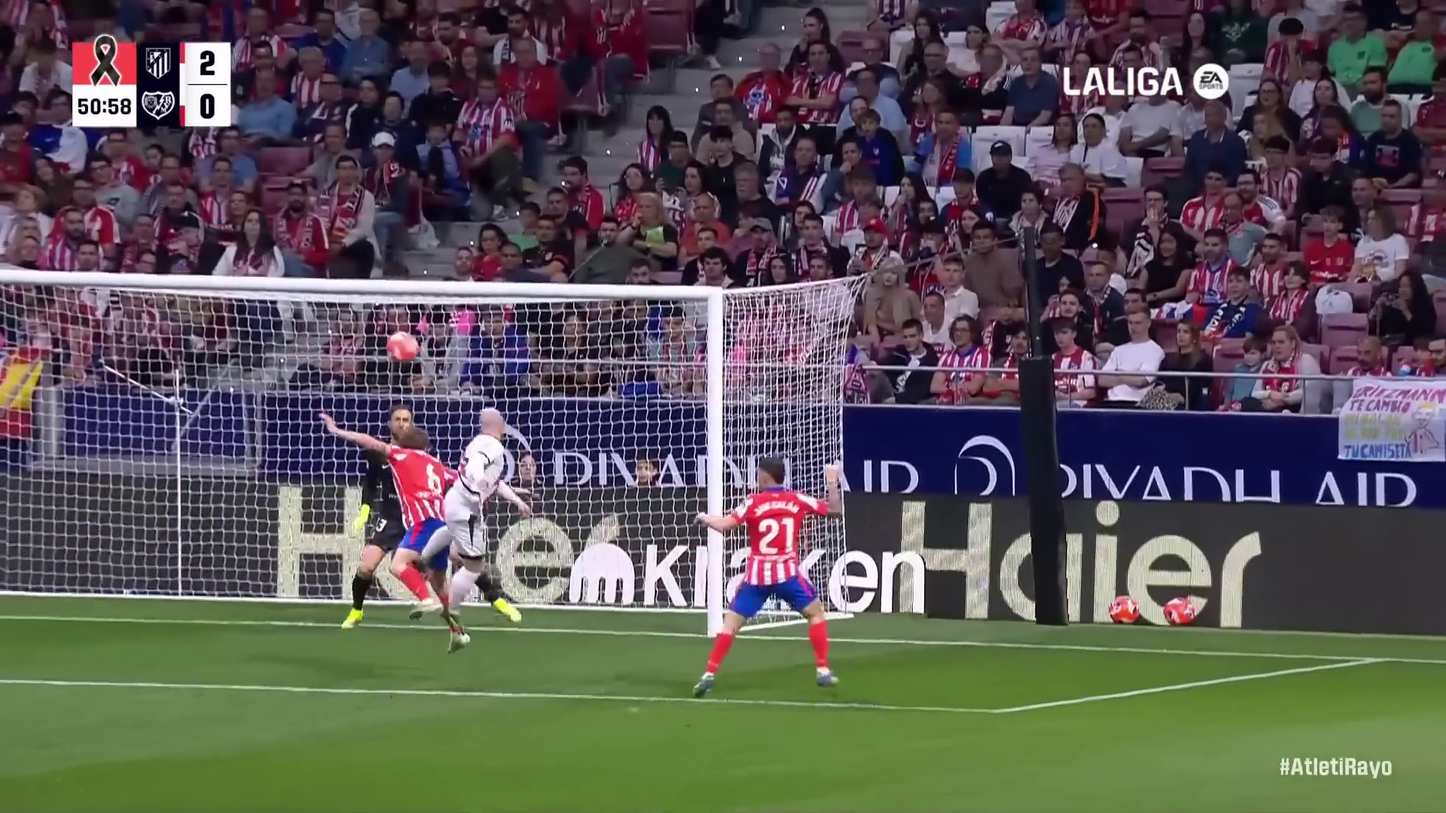ball: (381, 328, 427, 368)
player: (352, 399, 523, 642), (695, 457, 847, 697), (421, 400, 536, 645), (333, 416, 459, 631)
